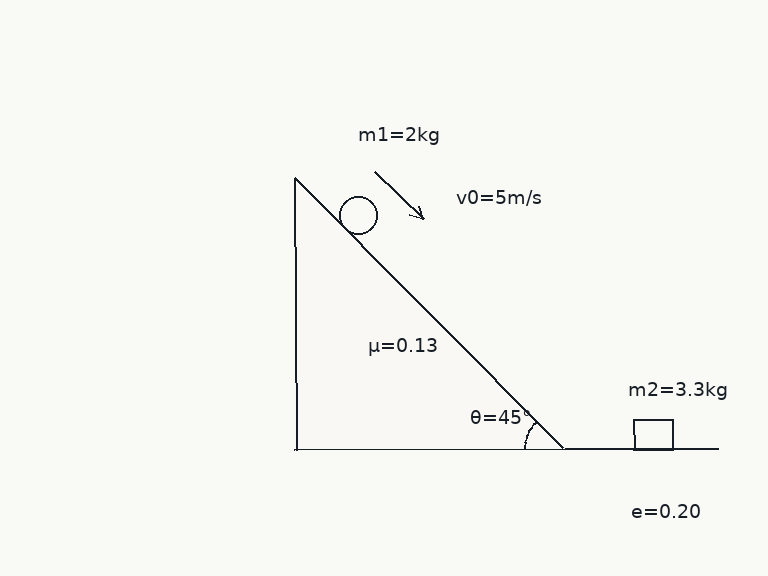ball: (337, 194, 379, 236)
block: (631, 418, 675, 451)
ramp: (292, 176, 567, 451)
